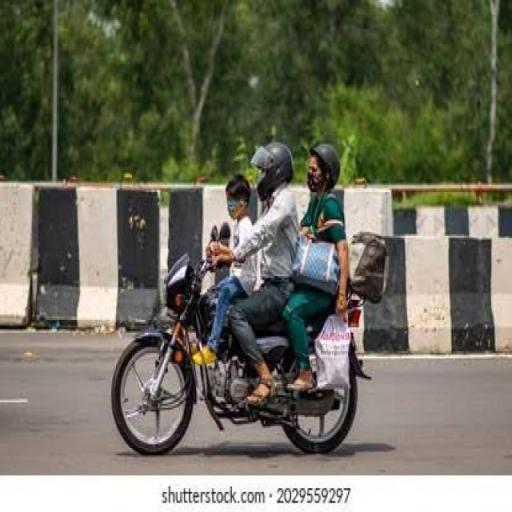tripple riding: (144, 130, 360, 408)
